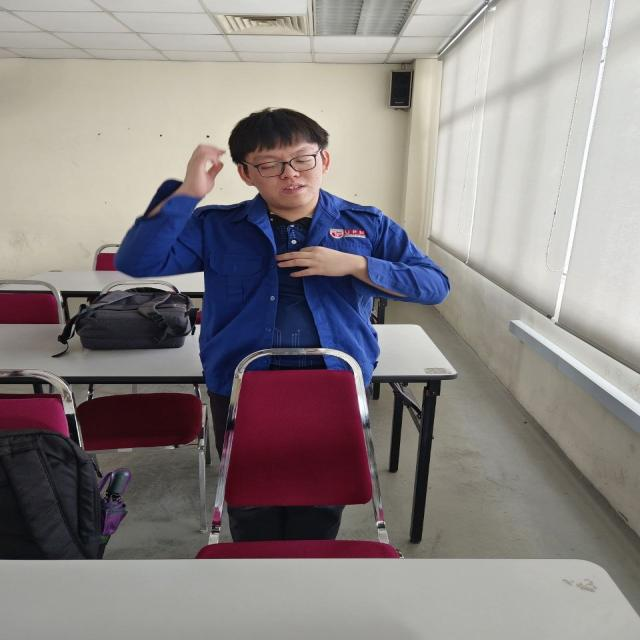person_with_labcoat: (115, 108, 449, 456)
